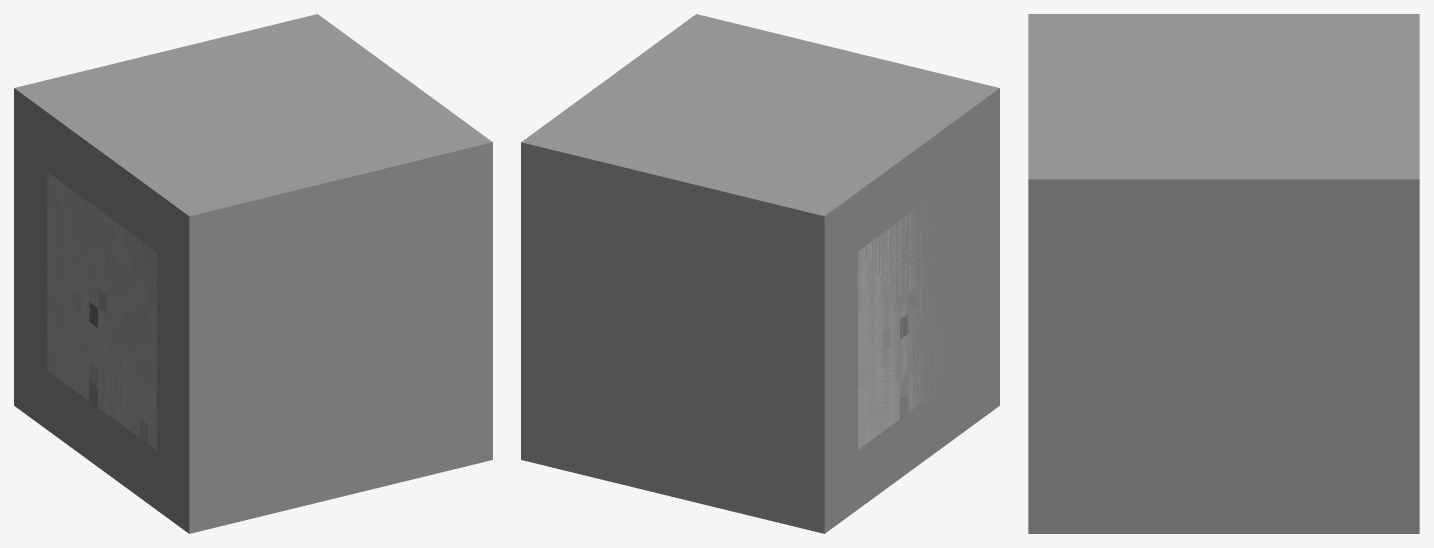
The model's file is RTU.obj.
The picture shows the model from 3 angles, left to right: view 1: azimuth 30°, elevation 25°; view 2: azimuth 150°, elevation 25°; view 3: azimuth 270°, elevation 25°; orthographic projection. The views are drawn at different scales.
Parts seen in each view (by area): view 1: Minecraft_Block_Cube, Minecraft_2_Edge_Connectivity_Cube.002, main; view 2: Minecraft_Block_Cube, Minecraft_2_Edge_Connectivity_Cube.002, main; view 3: Minecraft_Block_Cube, Minecraft_2_Edge_Connectivity_Cube.002.
Boxes of the visible parts, <box> form: Minecraft_Block_Cube: <box>15,14,492,533</box>; Minecraft_2_Edge_Connectivity_Cube.002: <box>14,88,253,533</box>; main: <box>47,172,156,449</box>; Minecraft_Block_Cube: <box>521,14,998,533</box>; Minecraft_2_Edge_Connectivity_Cube.002: <box>761,88,999,533</box>; main: <box>858,206,935,449</box>; Minecraft_Block_Cube: <box>1028,14,1419,533</box>; Minecraft_2_Edge_Connectivity_Cube.002: <box>1029,14,1418,96</box>.
Size of the model in its own units: 1 by 1 by 1.
Materials: 2 (1 with a texture image).
